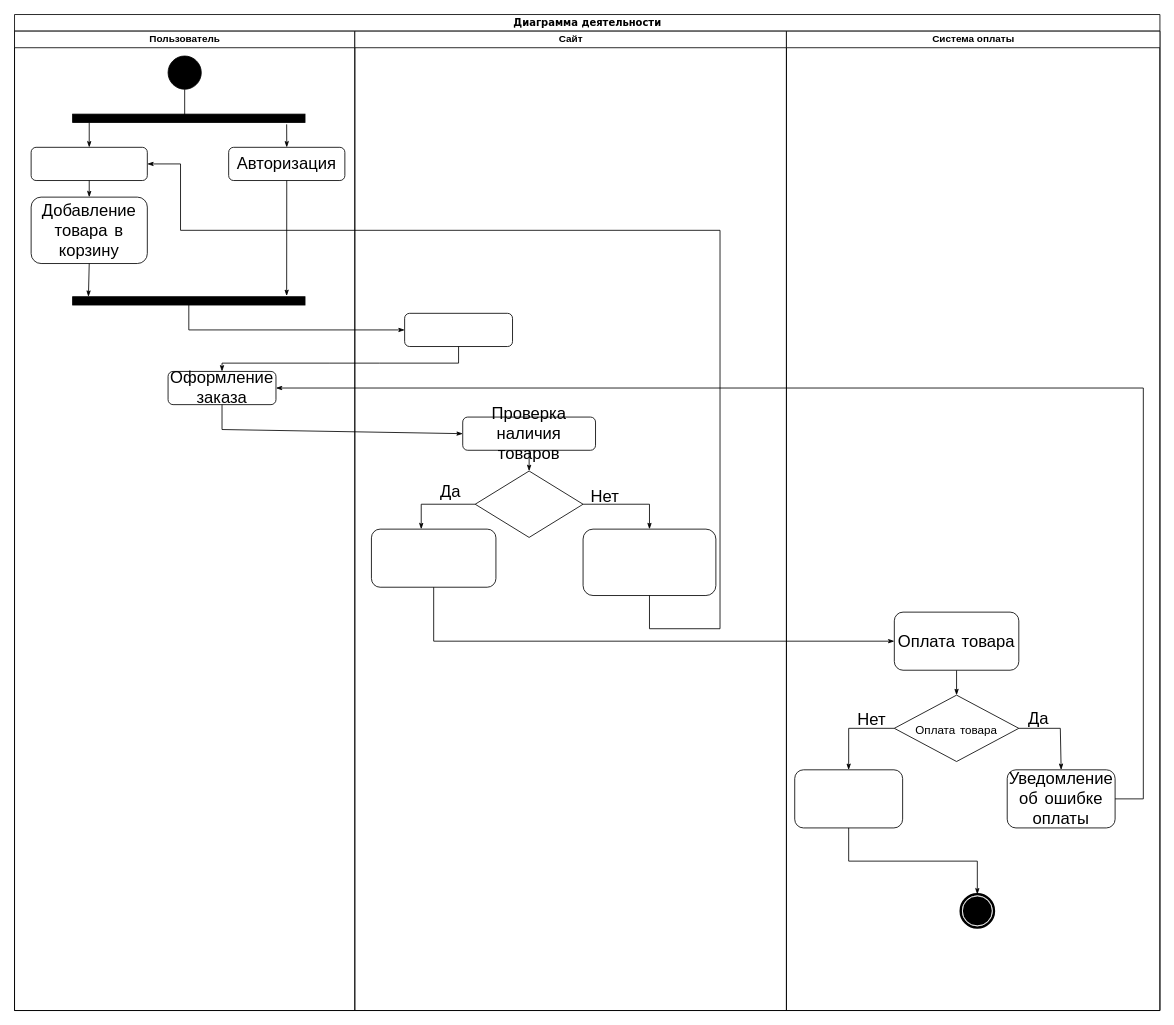
The diagram is 1174 pixels wide and 1025 high, and some of its shapes have lost their labels. The shapes that lost their labels are listed below. From the top down, each one's centre as x and y in pixels, then its label:
the point at 88,163: Выбор товара
the point at 458,329: Проверка авторизации
the point at 528,503: Наличие товара
the point at 433,557: Резервирование товара
the point at 649,562: Уведомление о недоступности товара
the point at 848,798: Уведомление об успешной оплате
